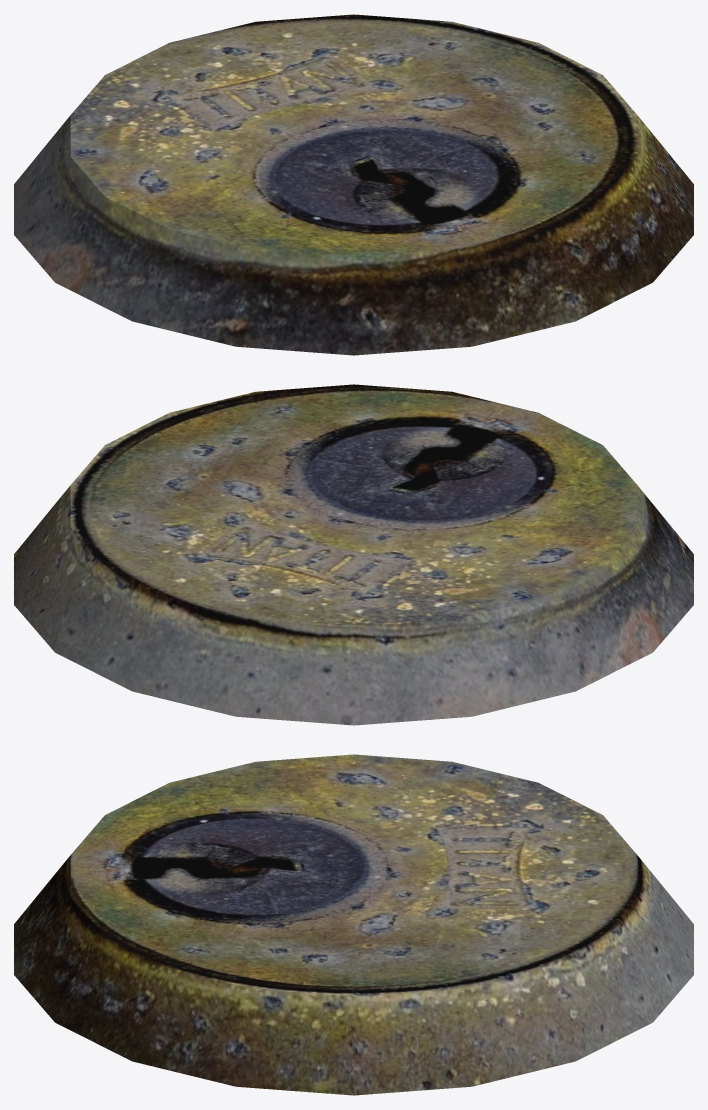
Rendered from Keyhole.fbx.
3 views of the same model, one above another, from view 1: azimuth 30°, elevation 25°; view 2: azimuth 150°, elevation 25°; view 3: azimuth 270°, elevation 25° (orthographic).
Parts seen in each view (by area): view 1: Cylinder001; view 2: Cylinder001; view 3: Cylinder001.
Part boxes in pixels (x1=…): Cylinder001: x1=14, y1=14, x2=693, y2=355; Cylinder001: x1=14, y1=384, x2=693, y2=725; Cylinder001: x1=14, y1=754, x2=693, y2=1095.
Size of the model in its own units: 28.85 by 3.4 by 28.41.
1 material, 1 textured.
